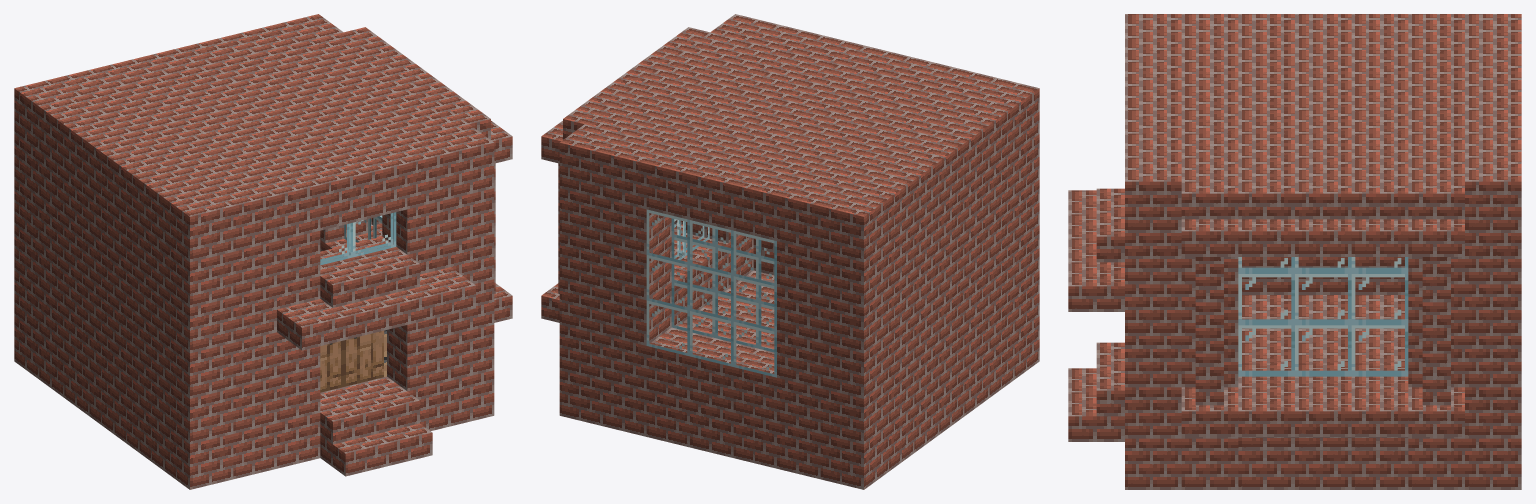
File: FirstHouse.glb
3 renders of one model, left to right at view 1: azimuth 30°, elevation 25°; view 2: azimuth 150°, elevation 25°; view 3: azimuth 270°, elevation 25°, orthographic. The views are drawn at different scales.
Visible parts, largest first — view 1: HousesForStackGame__4_-4_8_to_11_48_15; view 2: HousesForStackGame__4_-4_8_to_11_48_15; view 3: HousesForStackGame__4_-4_8_to_11_48_15.
Boxes of the visible parts, x1,y1,x2,y2 form: HousesForStackGame__4_-4_8_to_11_48_15: [14, 14, 512, 489]; HousesForStackGame__4_-4_8_to_11_48_15: [541, 14, 1039, 489]; HousesForStackGame__4_-4_8_to_11_48_15: [1068, 14, 1521, 489].
Bounding box in the file's own units: 2.46 × 1.84 × 2.46.
Materials: 5 (5 with a texture image).
